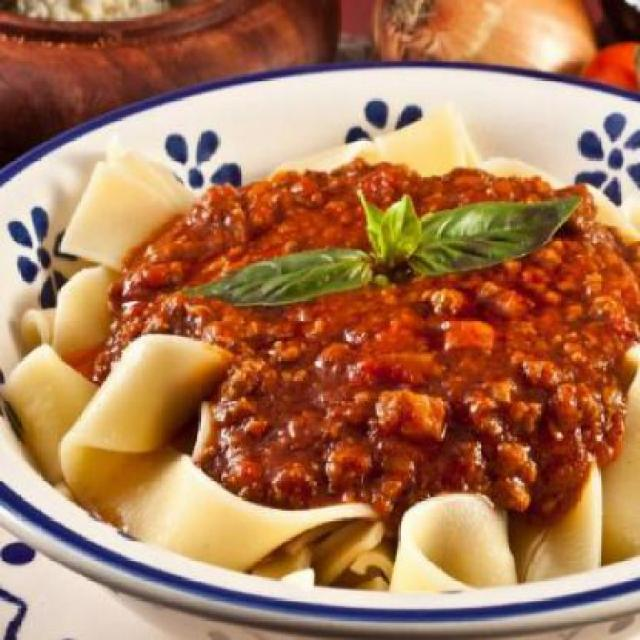Pasta al ragu: (48, 116, 632, 570)
